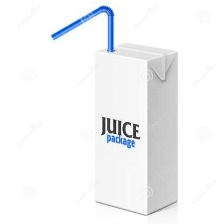carton: (87, 38, 183, 216)
drinking_straw: (47, 2, 118, 54)
